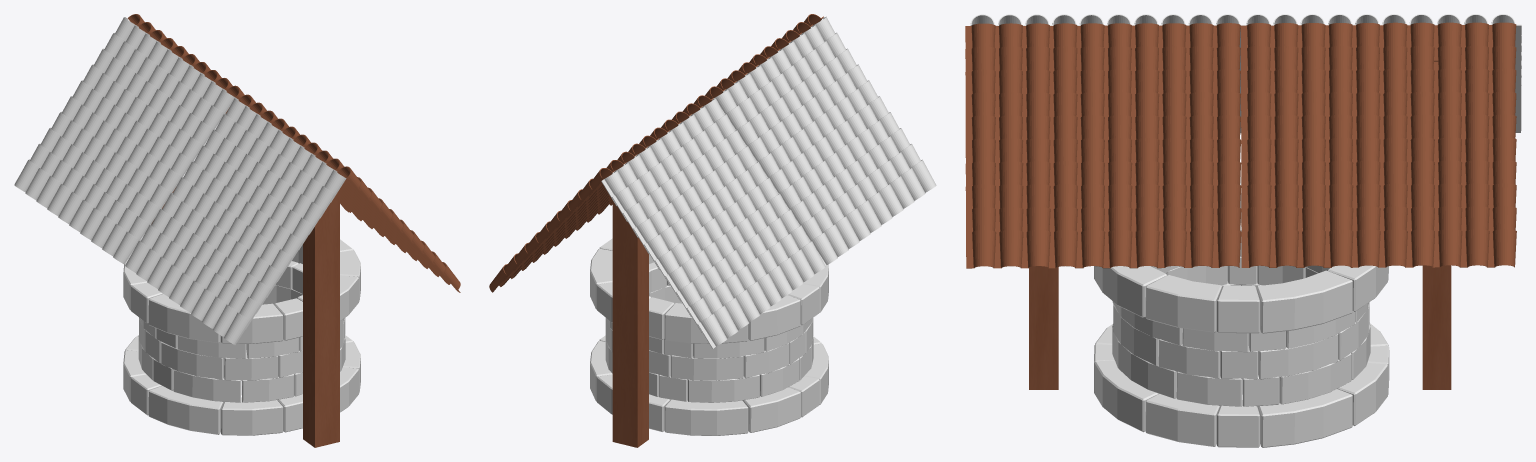
The model's file is well2.fbx.
3 renders of one model, left to right at view 1: azimuth 30°, elevation 25°; view 2: azimuth 150°, elevation 25°; view 3: azimuth 270°, elevation 25°, orthographic. The views are drawn at different scales.
Parts seen in each view (by area): view 1: roof1, Cube.007, Cube, Cube.005, roof1.002, Cube.002, Cube.001, Cube.003; view 2: roof1, Cube.008, Cube, Cube.005, roof1.002, Cube.002, Cube.001, Cube.003; view 3: roof1.002, Cube, Cube.005, Cube.002, Cube.001, roof1, Cube.003, Cube.008, Cube.007.
Part boxes in pixels (x1,y1,x2,y2): roof1: (14, 17, 346, 344); Cube.007: (303, 189, 339, 447); Cube: (123, 335, 360, 435); Cube.005: (123, 239, 360, 343); roof1.002: (127, 14, 460, 292); Cube.002: (139, 285, 345, 380); Cube.001: (138, 335, 345, 402); Cube.003: (139, 261, 344, 358); roof1: (601, 16, 936, 348); Cube.008: (612, 200, 648, 447); Cube: (590, 335, 828, 435); Cube.005: (590, 238, 828, 343); roof1.002: (489, 14, 823, 292); Cube.002: (605, 285, 813, 380); Cube.001: (605, 336, 813, 402); Cube.003: (606, 262, 812, 358); roof1.002: (965, 22, 1516, 268); Cube: (1094, 323, 1389, 447); Cube.005: (1094, 177, 1388, 333); Cube.002: (1113, 257, 1369, 379); Cube.001: (1112, 281, 1370, 406); roof1: (970, 14, 1521, 133); Cube.003: (1112, 223, 1368, 352); Cube.008: (1422, 60, 1451, 389); Cube.007: (1029, 266, 1058, 389).
Size of the model in its own units: 1074 by 1279 by 1763.
9 materials, 4 textured.
